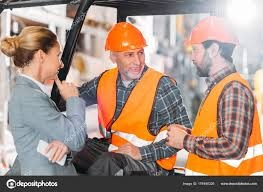none: (3, 24, 65, 82)
yellow: (184, 14, 240, 77), (106, 19, 149, 78)
